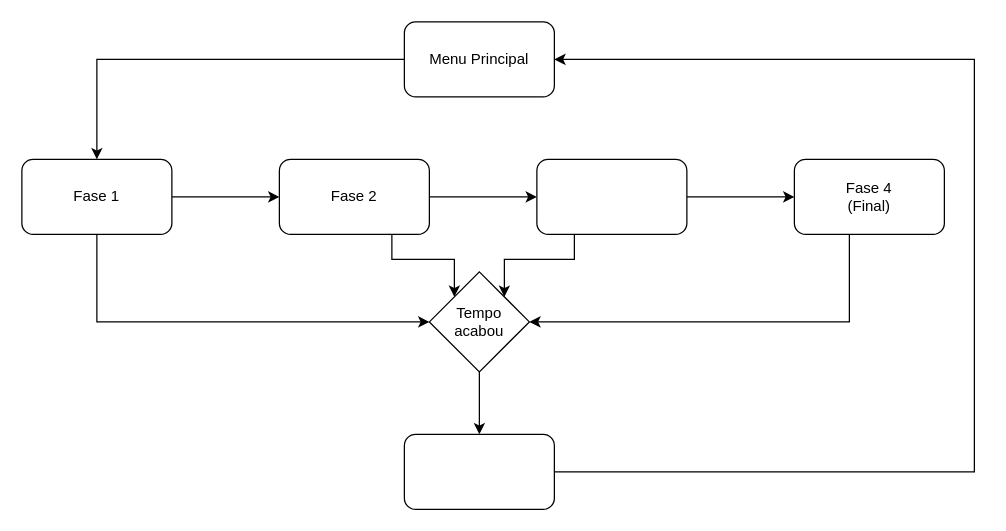
This 1006x531 diagram has some shape labels left out. Each missing label, with the centre of its shape:
Fase 3: point (611, 196)
Fim de jogo: point (478, 471)
